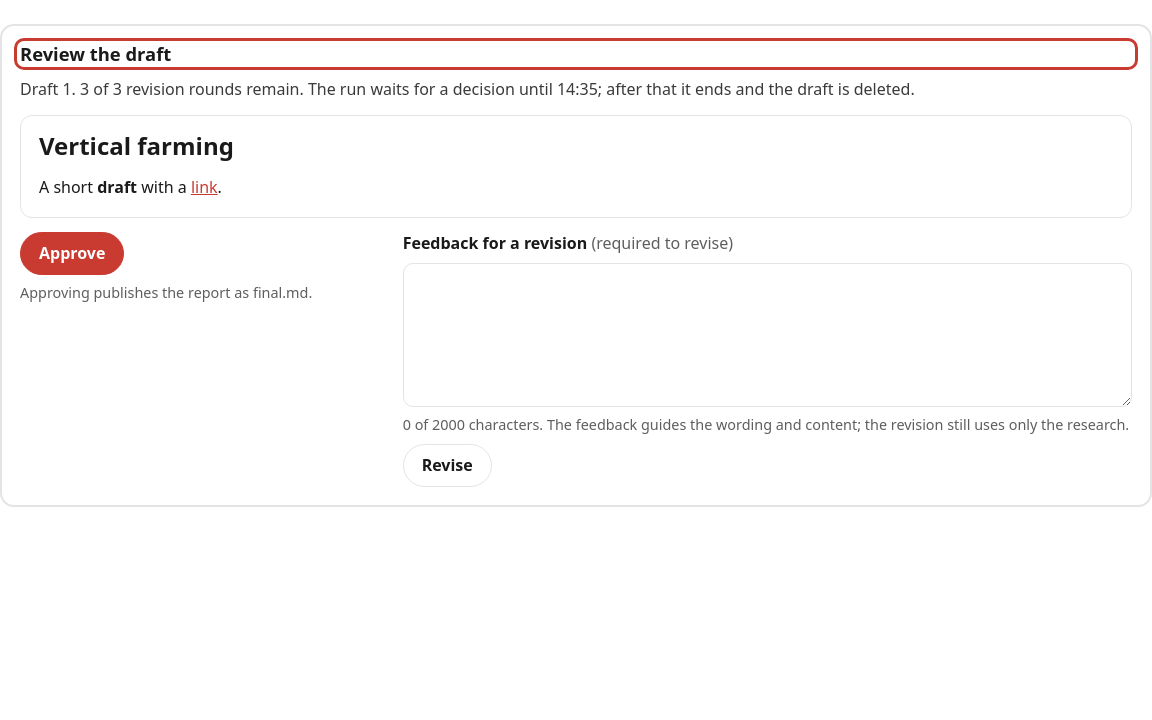
Scenario: ReviewPanel › refuses a revision without feedback, says why and moves focus to the box
Click the button "Revise": click(447, 466) top-left (403, 444), bottom-right (492, 487)
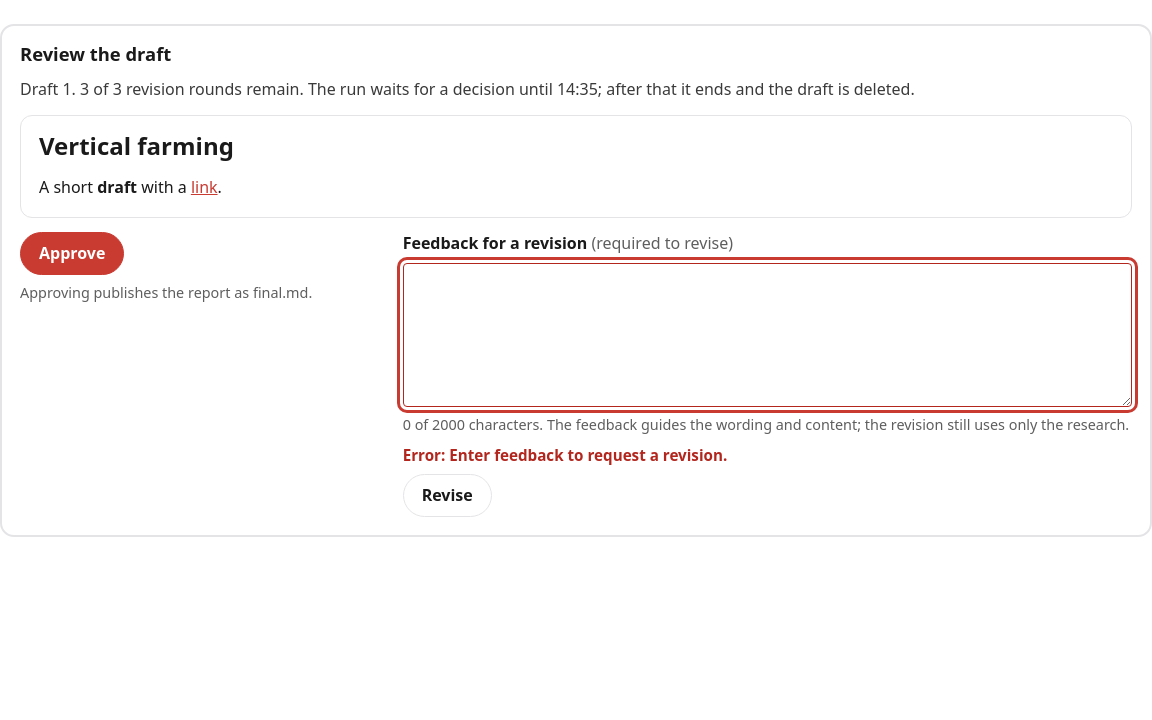
Expected: the message reads "Enter feedback to request a revision.", top-left (449, 445), bottom-right (727, 465)
